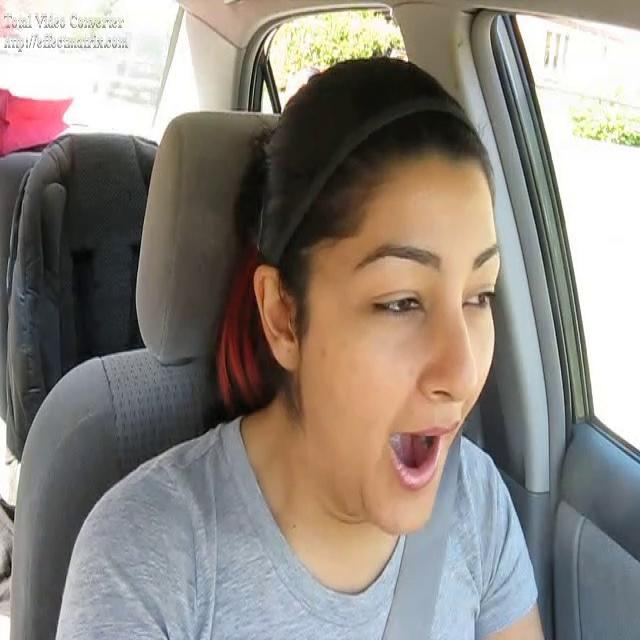yawn: (390, 419, 460, 493)
